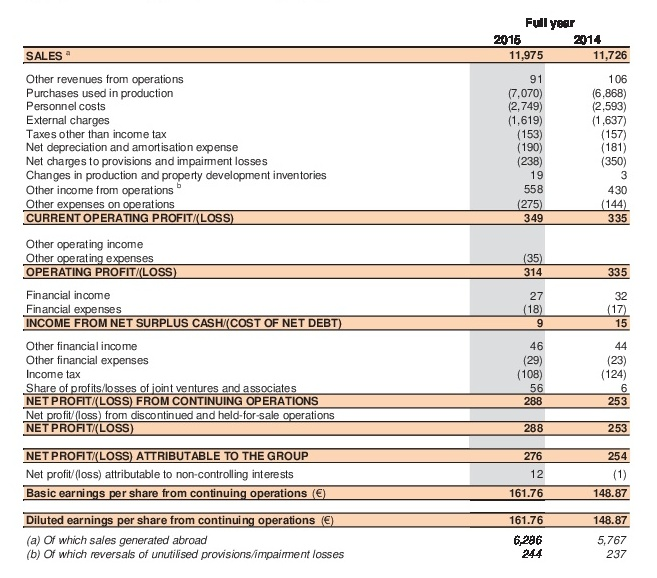table: (0, 0, 657, 578)
